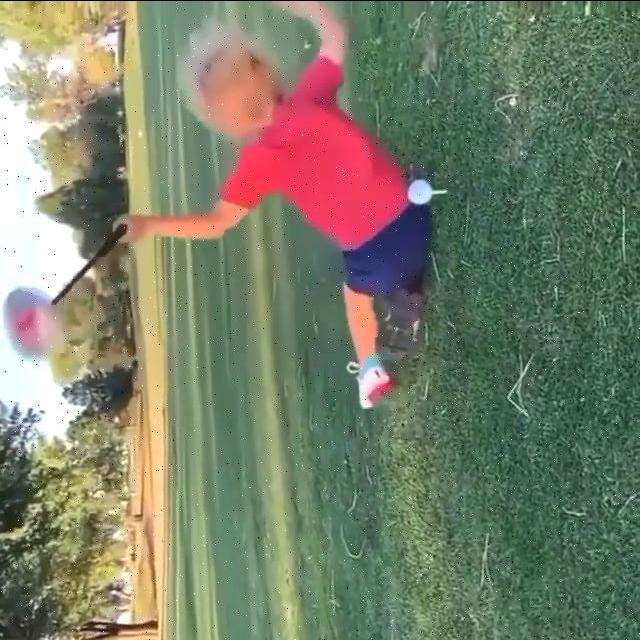ClubHandle: (4, 219, 126, 355)
ClubHead: (8, 286, 70, 356)
GolfBall: (408, 174, 435, 208)
